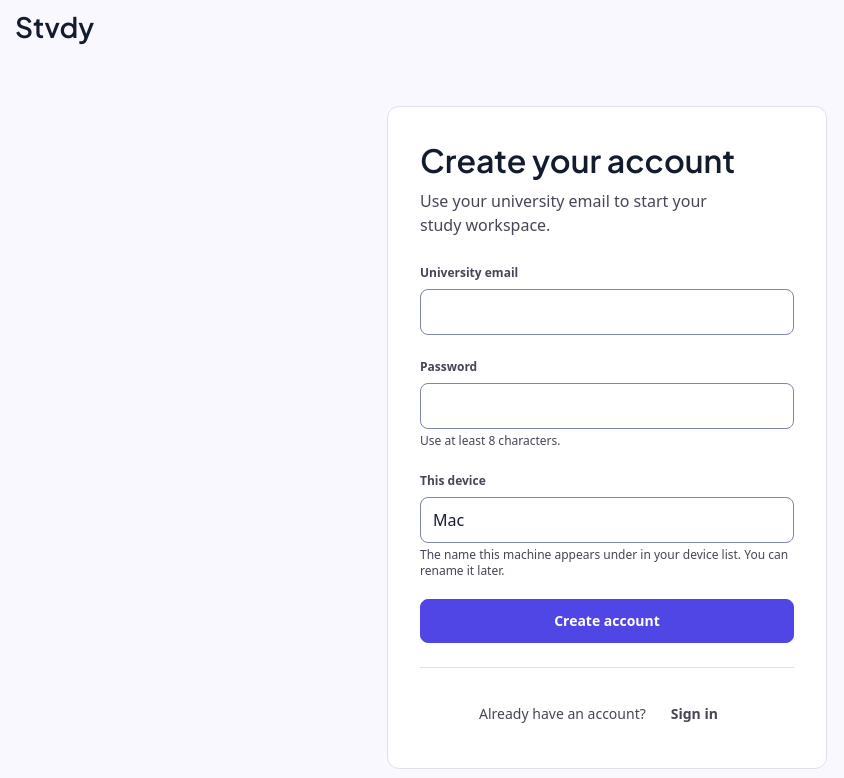
Test: signing up › keeps an unattributable validation failure at the form level
Type "student@example.com" into the field labelled "University email". click: coordinates (607, 312)
box: [420, 289, 794, 335]
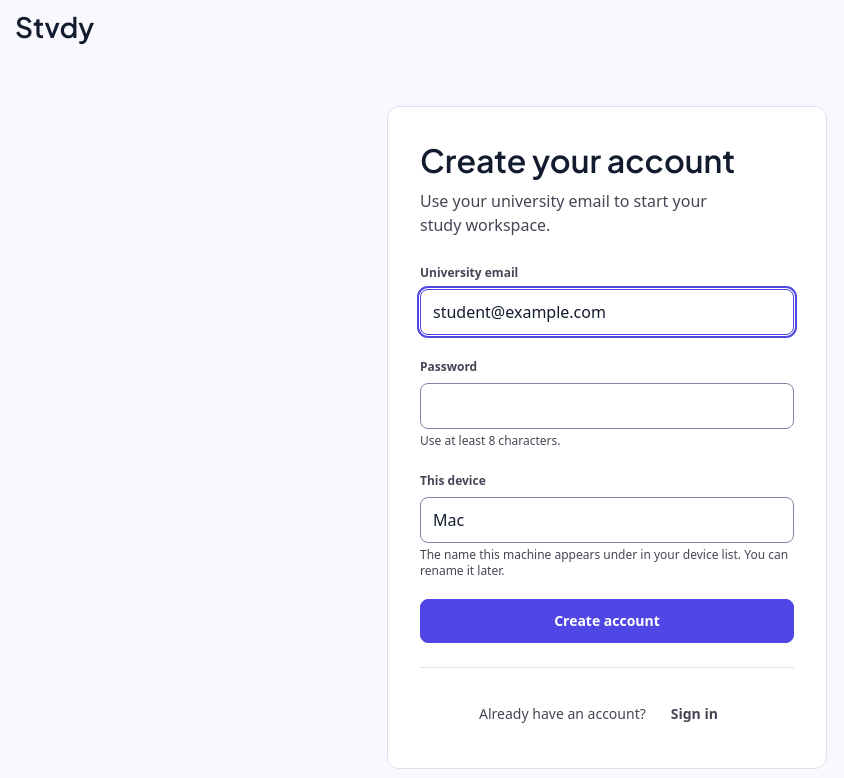
Type "long enough to pass" into the password field labelled "Password". click: coordinates (607, 406)
box: [420, 383, 794, 429]
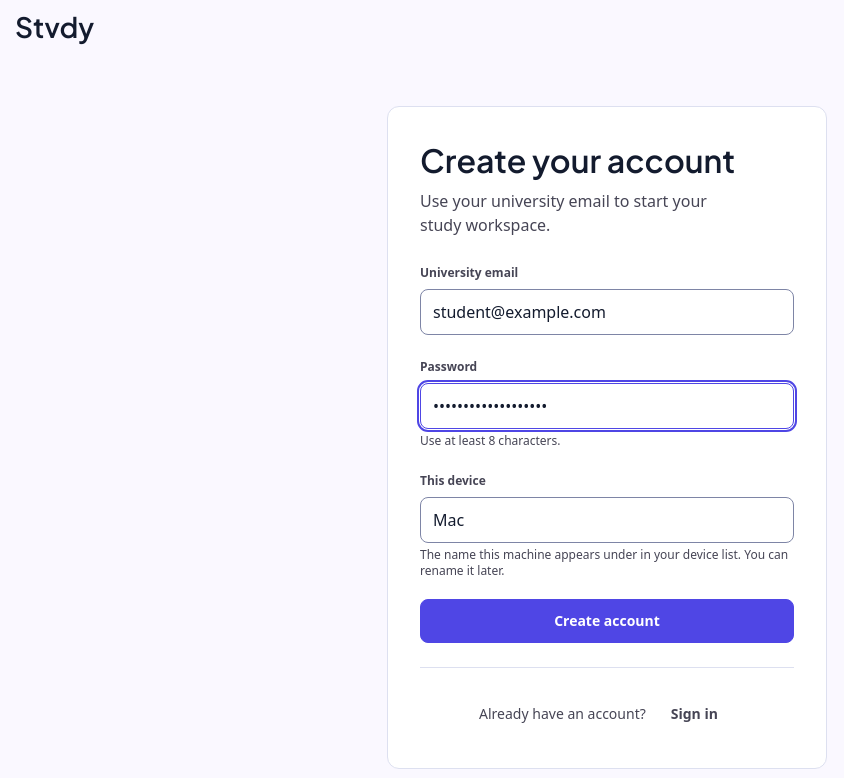
Click the button "Create account". click: coordinates (607, 621)
box: [420, 599, 794, 643]
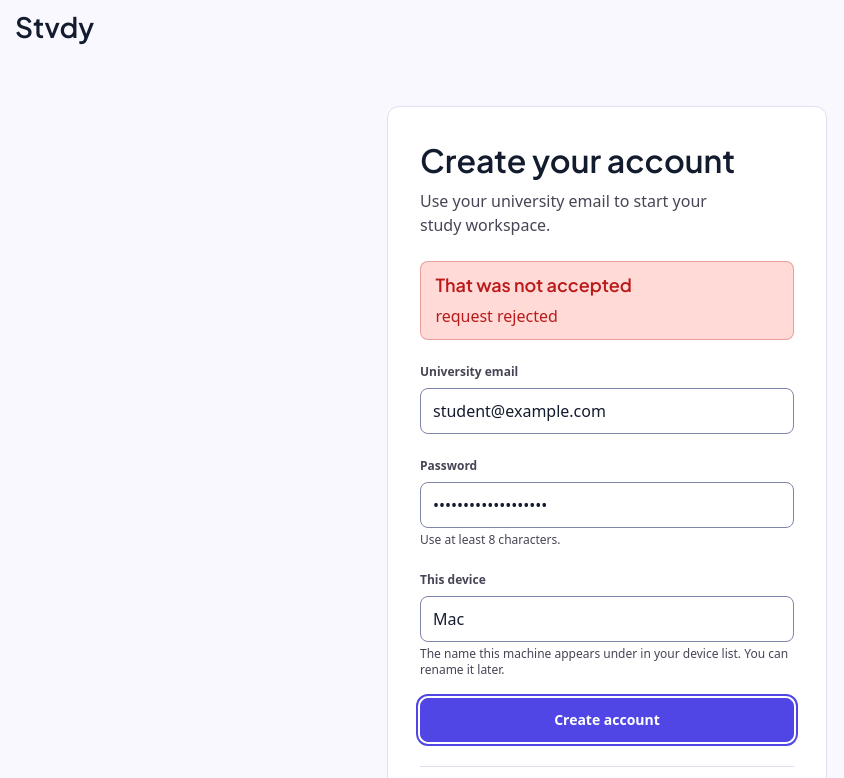
Check: the message shows "request rejected", box [435, 305, 558, 327]
